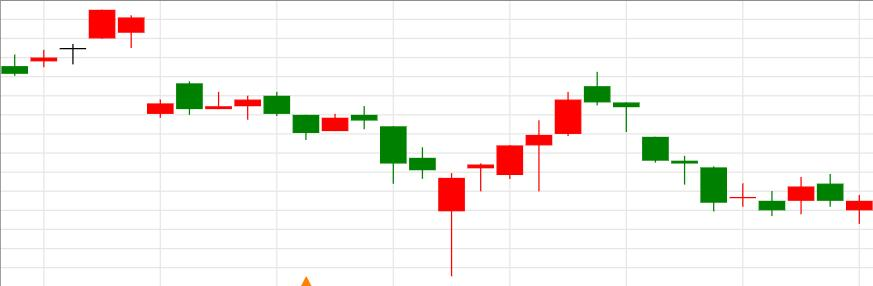hammer_rise: (87, 8, 465, 276)
